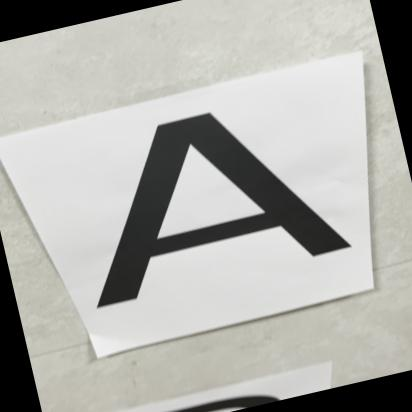seat: (42, 69, 383, 324)
